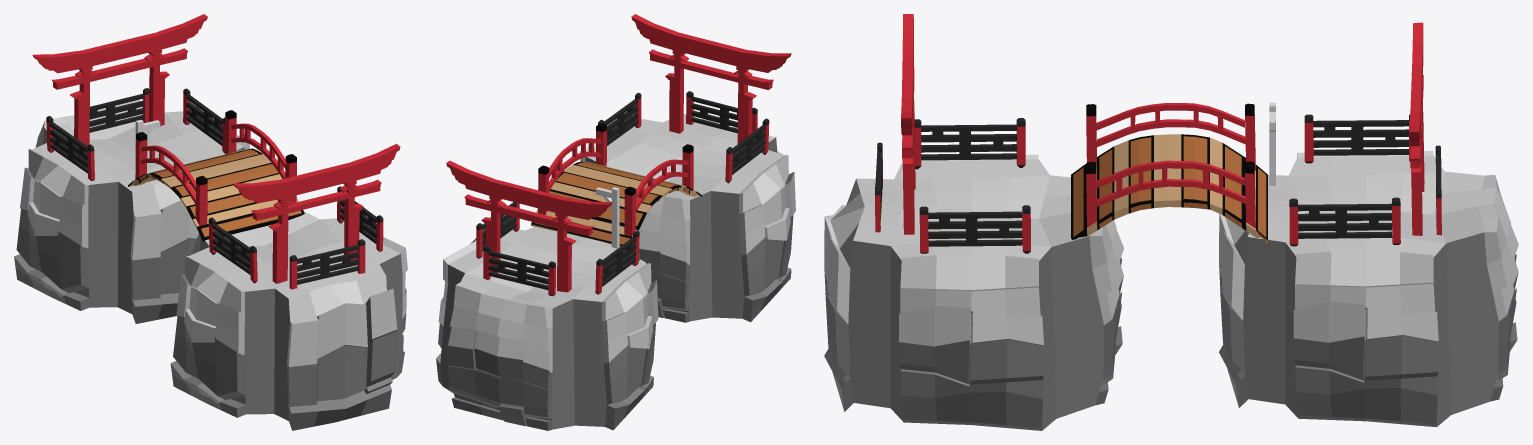
The model's file is Jembatan.fbx.
3 renders of one model, left to right at view 1: azimuth 30°, elevation 25°; view 2: azimuth 150°, elevation 25°; view 3: azimuth 270°, elevation 25°, orthographic. The views are drawn at different scales.
Visible parts, largest first — view 1: Cube.010, Cube.007, Cube, Cube.001, Cube.002, Cube.009, Cube.008, Cube.005, Cube.003, Cube.004, Cube.006; view 2: Cube.007, Cube.010, Cube, Cube.002, Cube.001, Cube.008, Cube.009, Cube.005, Cube.003, Cube.006, Cube.004, Cube.012; view 3: Cube.007, Cube.010, Cube, Cube.004, Cube.005, Cube.006, Cube.003, Cube.002, Cube.001.
Boxes of the visible parts, x1=… form: Cube.010: x1=170, y1=211, x2=407, y2=430; Cube.007: x1=14, y1=100, x2=249, y2=323; Cube: x1=128, y1=110, x2=304, y2=241; Cube.001: x1=32, y1=14, x2=207, y2=145; Cube.002: x1=233, y1=144, x2=400, y2=283; Cube.009: x1=289, y1=239, x2=365, y2=289; Cube.008: x1=89, y1=88, x2=149, y2=132; Cube.005: x1=208, y1=217, x2=257, y2=283; Cube.003: x1=46, y1=116, x2=94, y2=180; Cube.004: x1=183, y1=88, x2=225, y2=153; Cube.006: x1=337, y1=186, x2=383, y2=251; Cube.007: x1=436, y1=226, x2=658, y2=430; Cube.010: x1=580, y1=113, x2=795, y2=322; Cube: x1=531, y1=123, x2=701, y2=246; Cube.002: x1=631, y1=14, x2=791, y2=143; Cube.001: x1=446, y1=160, x2=612, y2=292; Cube.008: x1=483, y1=245, x2=555, y2=296; Cube.009: x1=686, y1=91, x2=757, y2=133; Cube.005: x1=725, y1=118, x2=769, y2=183; Cube.003: x1=595, y1=230, x2=639, y2=294; Cube.006: x1=598, y1=92, x2=641, y2=145; Cube.004: x1=476, y1=202, x2=519, y2=258; Cube.012: x1=595, y1=187, x2=619, y2=248; Cube.007: x1=1219, y1=151, x2=1518, y2=427; Cube.010: x1=824, y1=154, x2=1123, y2=430; Cube: x1=1071, y1=103, x2=1267, y2=242; Cube.004: x1=1289, y1=197, x2=1400, y2=246; Cube.005: x1=914, y1=118, x2=1025, y2=169; Cube.006: x1=919, y1=205, x2=1030, y2=253; Cube.003: x1=1304, y1=114, x2=1410, y2=163; Cube.002: x1=901, y1=14, x2=915, y2=234; Cube.001: x1=1409, y1=22, x2=1424, y2=235.
Size of the model in its own units: 1245 by 1376 by 2704.
